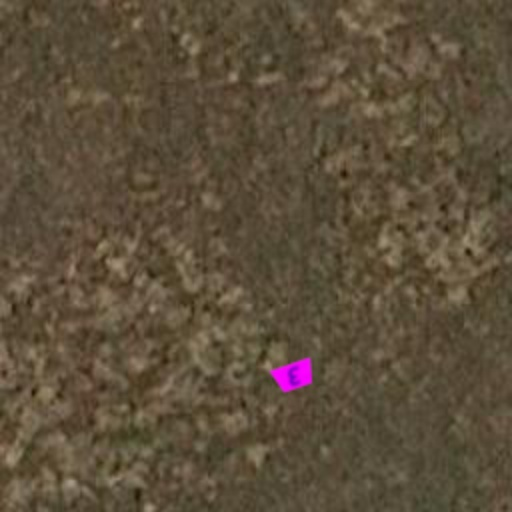trapezoid: (266, 348, 322, 404)
